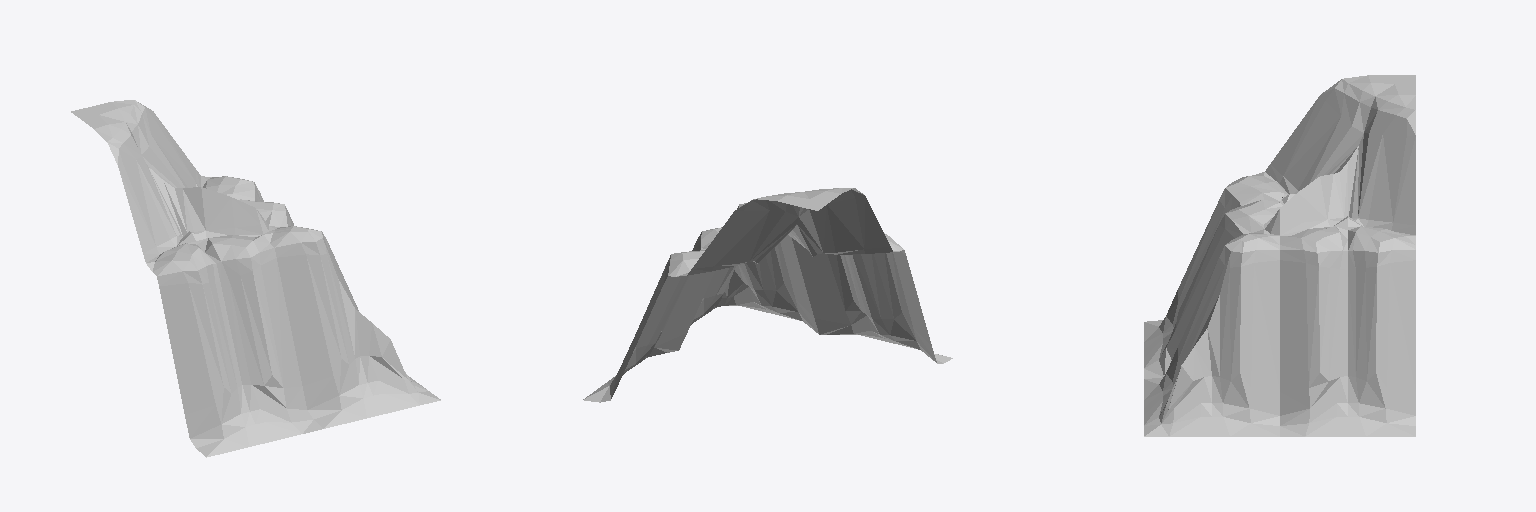
Rendered from Cliff-OutsideEdge.obj.
3 views of the same model, side by side, from view 1: azimuth 30°, elevation 25°; view 2: azimuth 150°, elevation 25°; view 3: azimuth 270°, elevation 25° (orthographic).
Visible parts, largest first — view 1: Cliff-OutsideCorner_mesh.007; view 2: Cliff-OutsideCorner_mesh.007; view 3: Cliff-OutsideCorner_mesh.007.
Part boxes in pixels (x1,y1,x2,y2): Cliff-OutsideCorner_mesh.007: (71,100,440,457); Cliff-OutsideCorner_mesh.007: (583,188,952,402); Cliff-OutsideCorner_mesh.007: (1144,75,1415,436).
Size of the model in its own units: 2 by 2 by 2.